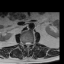CCS_normal: (27, 40, 28, 49)
LFS_normal: (30, 39, 32, 47)
LLS_normal: (28, 40, 30, 47)
RFS_stenosis: (23, 40, 25, 47)
RLS_normal: (25, 40, 27, 47)
